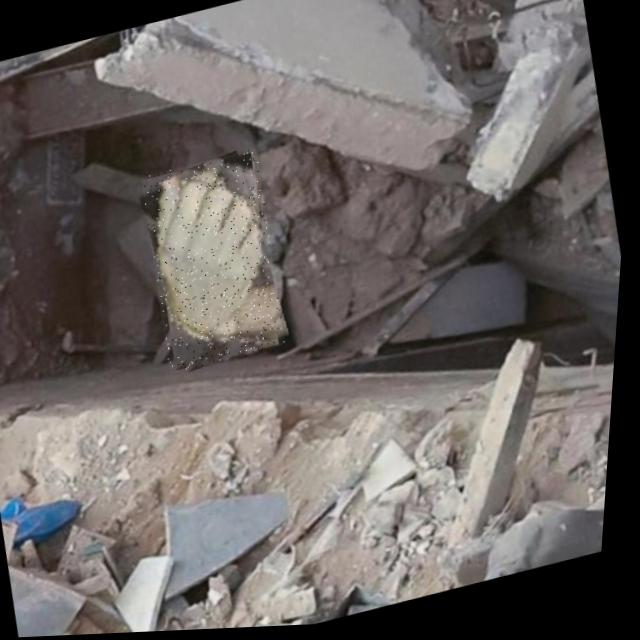Person in Rubble: (133, 148, 300, 376)
